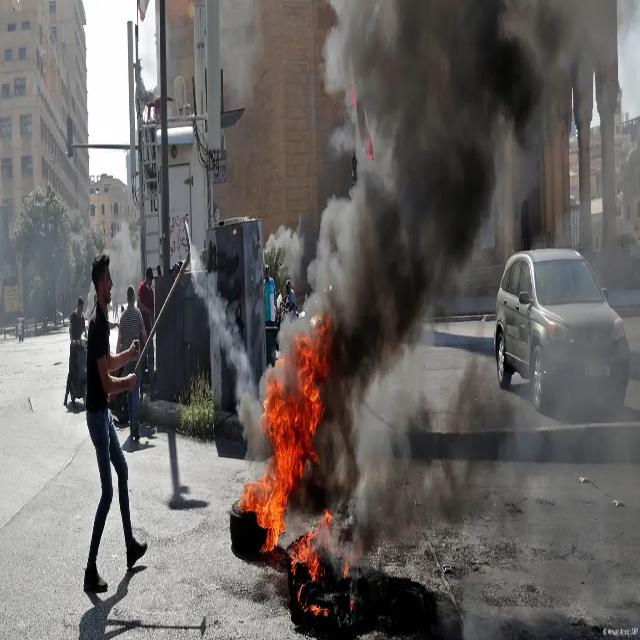fire: (263, 375, 322, 479), (295, 315, 332, 423), (239, 479, 293, 520), (290, 532, 318, 583)
